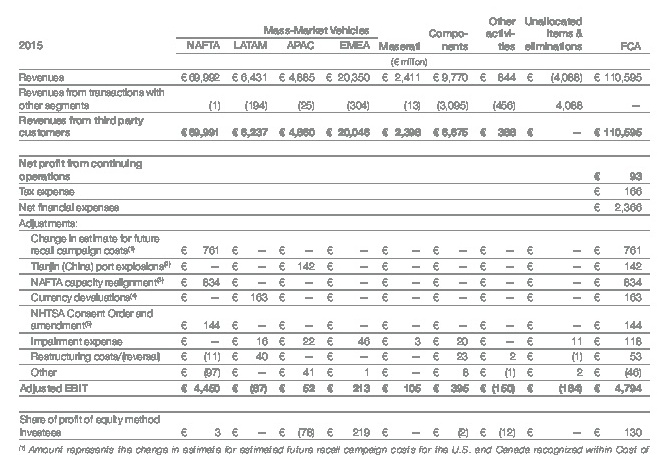table: (0, 0, 670, 455)
